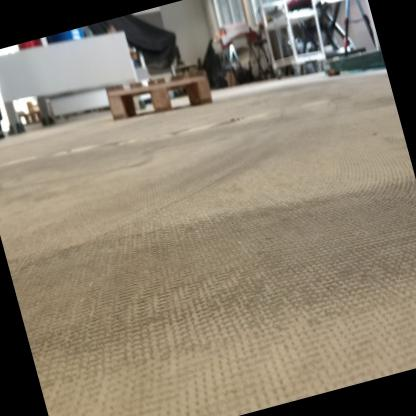BoxFace: (101, 63, 218, 124)
